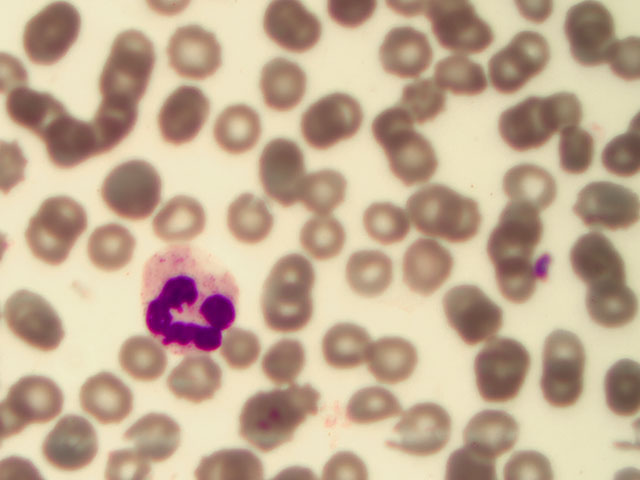Platelets: (536, 253, 561, 284)
RBC: (23, 16, 69, 62), (115, 20, 161, 66), (101, 58, 147, 104), (100, 94, 146, 140), (72, 113, 118, 159), (52, 115, 98, 161), (17, 86, 63, 132), (48, 189, 94, 235), (20, 220, 66, 266), (102, 167, 148, 213), (157, 195, 203, 241), (156, 104, 202, 150), (167, 75, 213, 121), (165, 21, 211, 67), (212, 101, 258, 147), (259, 61, 305, 107), (295, 105, 341, 151), (319, 90, 365, 136), (256, 140, 302, 186), (231, 196, 277, 242), (302, 171, 348, 217), (299, 212, 345, 258), (274, 242, 320, 288), (267, 283, 313, 329), (264, 339, 310, 385), (217, 329, 263, 375), (171, 358, 217, 404), (117, 335, 163, 381), (88, 377, 134, 423), (38, 416, 84, 462), (11, 371, 57, 417), (15, 292, 61, 338), (325, 321, 371, 367), (378, 335, 424, 381), (353, 249, 399, 295), (360, 211, 406, 257), (405, 184, 451, 230), (444, 192, 490, 238), (387, 137, 433, 183), (362, 106, 408, 152), (392, 78, 438, 124), (441, 54, 487, 100), (477, 44, 523, 90), (507, 27, 553, 73), (570, 1, 616, 47), (594, 40, 640, 86), (545, 90, 591, 136), (508, 98, 554, 144), (553, 127, 599, 173), (507, 162, 553, 208), (503, 200, 549, 246), (485, 229, 531, 275), (494, 270, 540, 316), (452, 297, 498, 343), (408, 239, 454, 285), (474, 347, 520, 393), (541, 328, 587, 374), (542, 353, 588, 399), (594, 285, 640, 331), (565, 225, 611, 271), (583, 182, 629, 228), (594, 358, 640, 404), (470, 405, 516, 451), (397, 405, 443, 451), (346, 389, 392, 435), (252, 392, 298, 438), (133, 411, 179, 457), (383, 28, 429, 74), (437, 3, 483, 49), (83, 226, 129, 272), (30, 1, 76, 46), (267, 1, 313, 46)
WBC: (138, 249, 234, 349)
